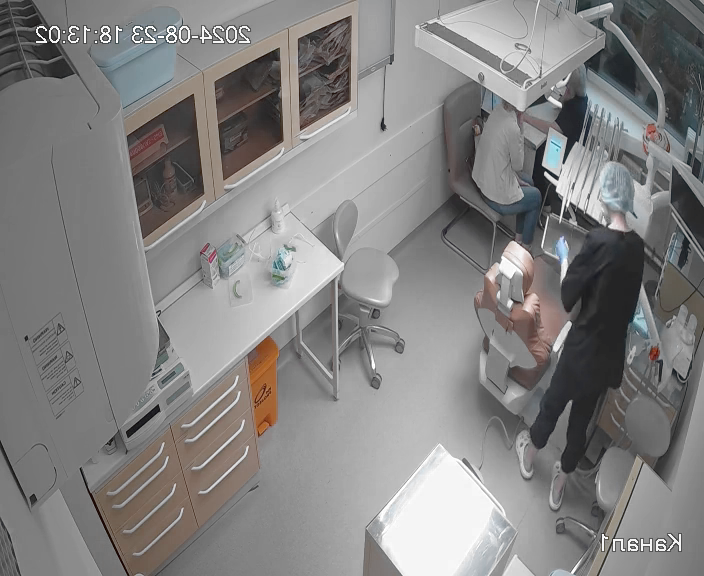Empty: (472, 240, 570, 417)
